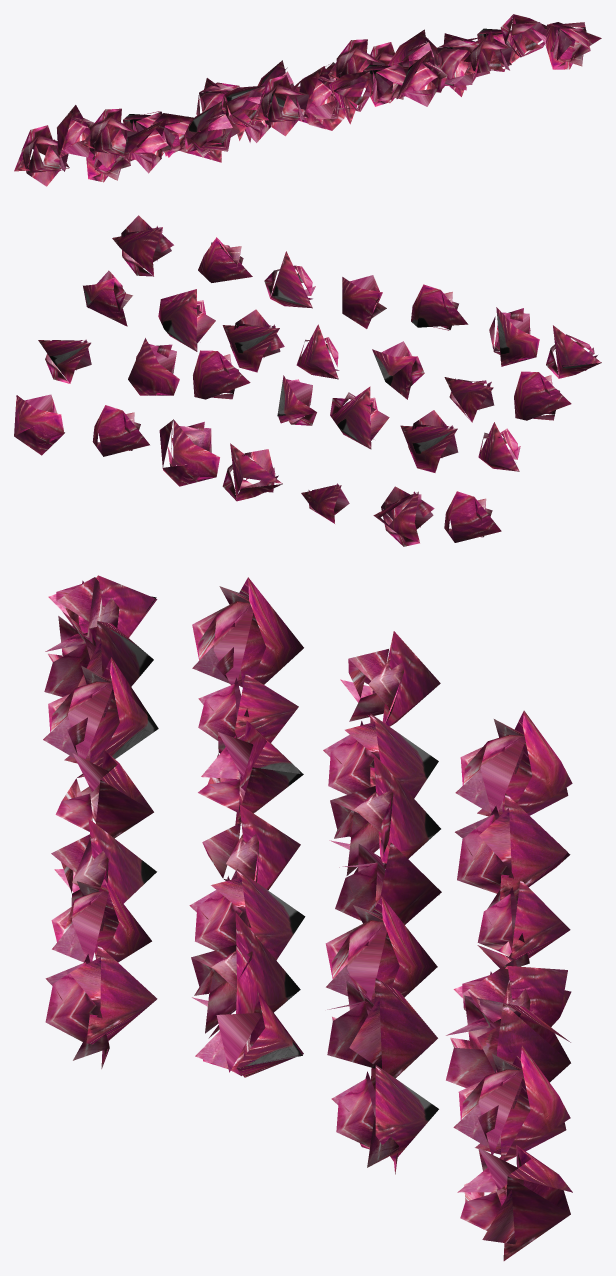
File: nt_hydro_plant_red_LOD3.obj
3 renders of one model, top to bottom at view 1: azimuth 30°, elevation 25°; view 2: azimuth 150°, elevation 25°; view 3: azimuth 270°, elevation 25°, orthographic. The views are drawn at different scales.
Parts seen in each view (by area): view 1: mtl_hydro_plant_red; view 2: mtl_hydro_plant_red; view 3: mtl_hydro_plant_red.
Boxes of the visible parts, left/top/right/bottom form: mtl_hydro_plant_red: left=14, top=14, right=601, bottom=186; mtl_hydro_plant_red: left=14, top=215, right=601, bottom=546; mtl_hydro_plant_red: left=43, top=575, right=572, bottom=1260.
Size of the model in its own units: 288 by 91.8 by 137.
